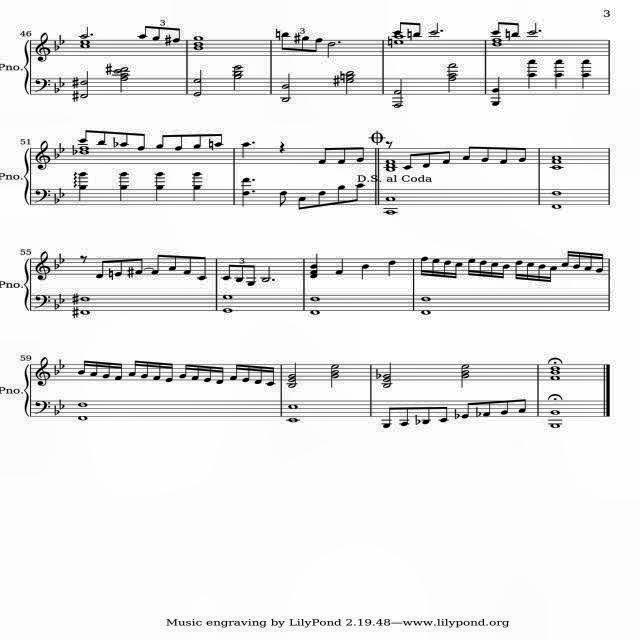Bass-clef: (34, 251, 50, 281), (35, 357, 51, 387), (36, 141, 50, 171), (36, 32, 50, 60)
Bemol: (374, 368, 382, 379), (58, 293, 66, 303), (58, 359, 66, 369), (52, 405, 60, 415), (58, 399, 66, 409), (414, 415, 422, 425), (52, 193, 59, 204), (53, 82, 59, 94), (59, 76, 65, 88), (113, 136, 119, 148), (53, 364, 59, 376), (453, 408, 459, 420), (59, 35, 66, 45), (52, 149, 59, 159), (59, 143, 66, 153), (59, 253, 66, 263), (53, 40, 59, 51), (475, 407, 481, 418), (59, 188, 65, 198), (71, 145, 77, 155), (53, 259, 59, 269), (54, 300, 60, 310)
Diez: (70, 306, 80, 320), (292, 32, 302, 44), (105, 62, 113, 76), (72, 292, 80, 306), (72, 76, 80, 88), (72, 90, 80, 102), (332, 75, 340, 87), (126, 266, 134, 278)
Eighth-note: (149, 253, 161, 277), (382, 406, 394, 429), (136, 130, 148, 152), (246, 264, 258, 286), (498, 146, 510, 166), (352, 182, 364, 202), (94, 260, 106, 280), (197, 256, 207, 280), (337, 146, 348, 166), (336, 185, 346, 207), (398, 407, 409, 427), (437, 404, 448, 424), (155, 132, 167, 150), (173, 133, 185, 151), (440, 148, 452, 166), (479, 145, 491, 163), (277, 189, 289, 207), (113, 260, 125, 278), (280, 32, 290, 52), (317, 190, 327, 210), (422, 151, 433, 169), (423, 404, 432, 426), (138, 24, 150, 40), (312, 37, 324, 53), (490, 20, 502, 36), (96, 130, 108, 146), (118, 132, 130, 148), (317, 148, 329, 164), (516, 146, 528, 162), (499, 398, 509, 417), (356, 145, 366, 163), (404, 153, 414, 171), (461, 144, 471, 162), (168, 254, 178, 272), (223, 264, 233, 282), (461, 401, 471, 419), (483, 400, 492, 420), (171, 27, 181, 43), (299, 36, 309, 52), (509, 22, 519, 38), (79, 128, 89, 144), (192, 132, 202, 148), (214, 132, 224, 148), (135, 256, 143, 276), (184, 256, 192, 276), (236, 264, 244, 284), (517, 397, 527, 413), (413, 22, 422, 38), (297, 197, 307, 211), (392, 22, 403, 34), (152, 26, 160, 42)
Eighth-rest: (80, 254, 88, 262)
Full-note: (550, 190, 562, 196), (78, 296, 90, 302), (386, 158, 396, 164), (551, 164, 561, 170), (222, 294, 232, 300), (310, 296, 320, 302), (421, 296, 431, 302), (77, 401, 87, 407), (287, 417, 297, 423), (392, 34, 404, 38), (384, 163, 396, 167), (550, 160, 562, 164), (550, 156, 562, 160), (550, 204, 562, 208), (491, 38, 502, 42), (80, 44, 90, 48), (80, 40, 90, 44), (193, 46, 203, 50), (193, 42, 203, 46), (193, 36, 203, 40), (393, 40, 403, 44), (492, 42, 502, 46), (385, 196, 395, 200), (386, 168, 396, 172), (386, 210, 396, 214), (80, 310, 90, 314), (222, 308, 232, 312), (309, 310, 319, 314), (421, 310, 431, 314), (77, 416, 87, 420), (287, 404, 297, 408), (551, 410, 561, 414), (551, 376, 561, 380), (550, 370, 560, 374), (79, 150, 89, 154), (79, 146, 89, 150), (552, 424, 560, 428), (551, 366, 559, 370)
Half-note: (119, 76, 129, 94), (288, 361, 298, 379), (383, 361, 393, 379), (448, 76, 457, 94), (345, 78, 355, 94), (326, 42, 336, 58), (78, 26, 90, 38), (393, 78, 402, 94), (262, 265, 270, 283), (79, 71, 89, 85), (193, 69, 203, 83), (430, 22, 440, 36), (527, 22, 537, 36), (461, 374, 471, 388), (234, 75, 242, 92), (393, 95, 403, 108), (282, 72, 290, 88), (281, 91, 291, 103), (80, 85, 88, 99), (332, 374, 340, 388), (194, 84, 202, 96)
Quarter-note: (552, 57, 566, 71), (554, 72, 564, 90), (335, 257, 345, 275), (491, 76, 502, 92), (526, 57, 538, 71), (360, 264, 372, 278), (527, 72, 537, 88), (387, 260, 397, 276), (580, 58, 592, 70), (77, 186, 86, 202), (155, 171, 165, 185), (192, 171, 202, 185), (310, 253, 318, 270), (582, 72, 590, 88), (242, 142, 250, 158), (192, 185, 200, 201), (241, 191, 249, 207), (492, 93, 501, 107), (79, 171, 87, 185), (119, 186, 127, 200), (120, 171, 128, 185), (156, 186, 164, 200), (242, 178, 250, 190)
Quarter-rest: (277, 141, 287, 155)
Sixteenth-note: (512, 260, 524, 280), (582, 252, 594, 272), (138, 360, 150, 380), (125, 360, 138, 378), (163, 363, 174, 383), (535, 264, 547, 282), (100, 362, 112, 380), (419, 256, 429, 276), (594, 254, 604, 274), (153, 362, 163, 382), (215, 366, 225, 386), (253, 366, 263, 386), (265, 366, 275, 386), (431, 258, 442, 276), (488, 261, 499, 279), (499, 264, 511, 280), (560, 250, 572, 266), (454, 263, 464, 281), (525, 262, 535, 280), (548, 265, 558, 283), (572, 251, 582, 269), (229, 364, 239, 382), (242, 365, 252, 383), (113, 364, 123, 381), (477, 260, 487, 276), (76, 360, 86, 376), (179, 364, 189, 380), (191, 365, 201, 381), (444, 261, 452, 279), (467, 258, 475, 276), (204, 366, 212, 384), (89, 362, 99, 376)
